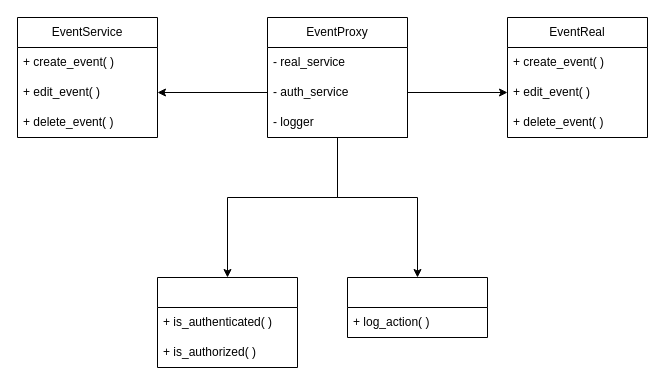
Image size: 665x385. Some labels were removed from this diagram. Here are the shapes that lost their labels. From the top down, the box of each, then its label:
(156, 276, 298, 368): AuthService
(346, 276, 488, 338): Logger
